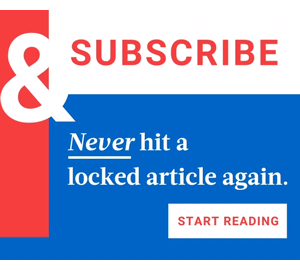fake_button: (160, 197, 295, 246)
